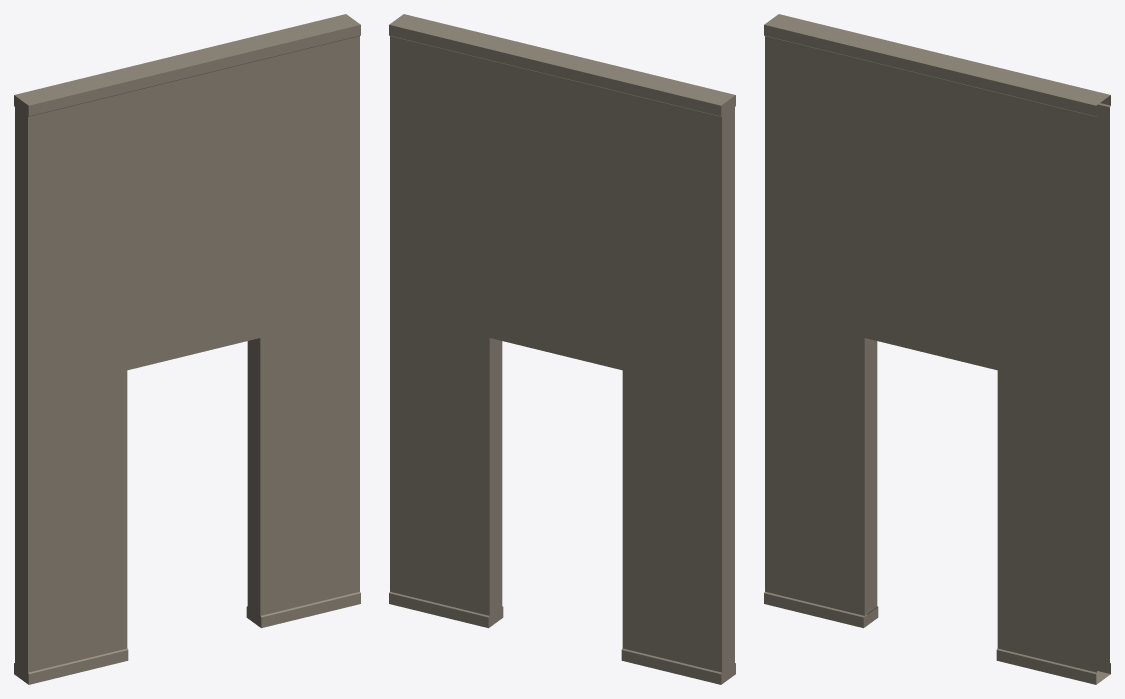
The model's file is Wall_3x5_SingleDoor.fbx.
3 views of the same model, side by side, from view 1: azimuth 30°, elevation 25°; view 2: azimuth 150°, elevation 25°; view 3: azimuth 330°, elevation 25° (orthographic).
Parts seen in each view (by area): view 1: Wall_3x5_SingleDoor; view 2: Wall_3x5_SingleDoor; view 3: Wall_3x5_SingleDoor.
Part boxes in pixels (x1=…): Wall_3x5_SingleDoor: x1=14, y1=14, x2=360, y2=684; Wall_3x5_SingleDoor: x1=389, y1=14, x2=735, y2=684; Wall_3x5_SingleDoor: x1=764, y1=14, x2=1110, y2=684.
Bounding box in the file's own units: 3 × 5 × 0.23.
